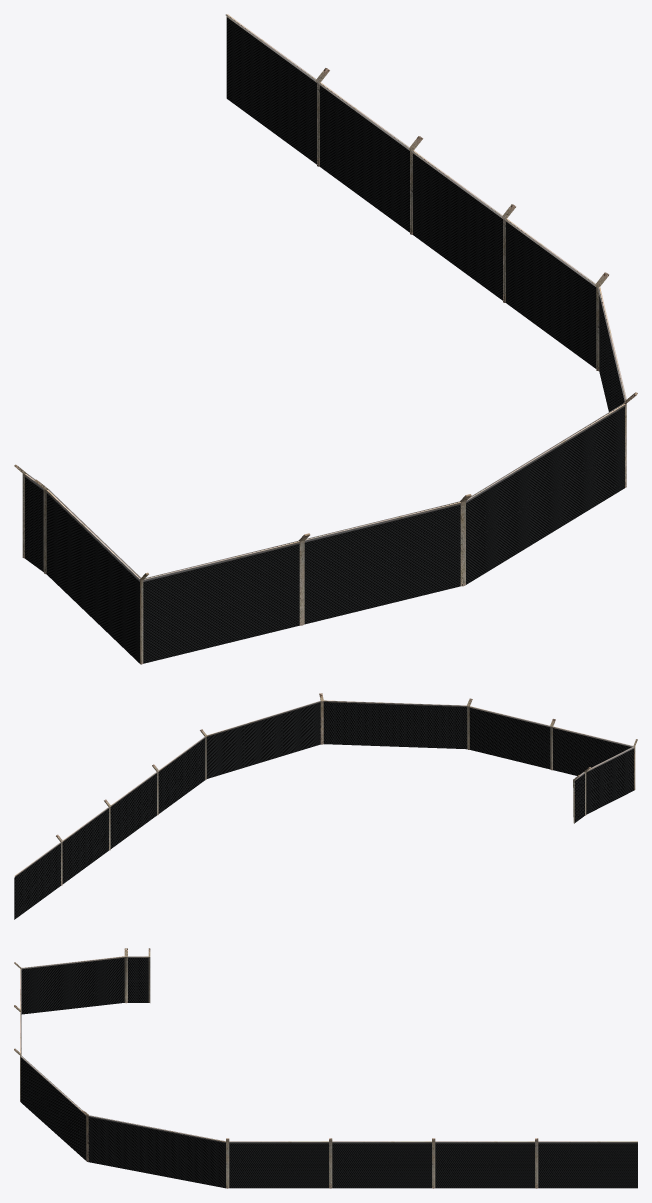
File: M11Z1_ChainFence_C.glb
3 renders of one model, top to bottom at view 1: azimuth 30°, elevation 25°; view 2: azimuth 150°, elevation 25°; view 3: azimuth 270°, elevation 25°, orthographic. The views are drawn at different scales.
Parts seen in each view (by area): view 1: M11Z1_CHAINFENCE_C; view 2: M11Z1_CHAINFENCE_C; view 3: M11Z1_CHAINFENCE_C.
Boxes of the visible parts, x1,y1,x2,y2 form: M11Z1_CHAINFENCE_C: (14,14,637,664); M11Z1_CHAINFENCE_C: (14,693,637,919); M11Z1_CHAINFENCE_C: (14,948,637,1188).
Size of the model in its own units: 32.94 by 5.5 by 48.47.
4 materials, 4 textured.
